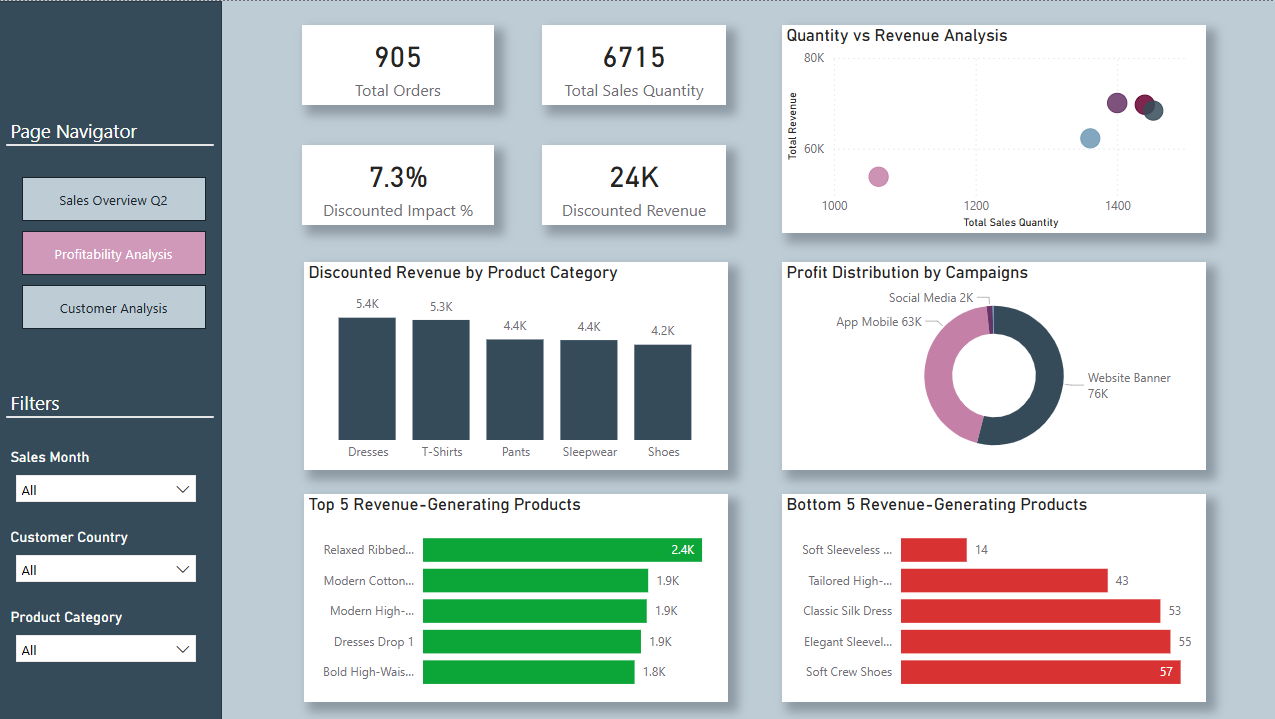

This screenshot's page, from the dashboard's own definition file:
{"tool":"powerbi","page":{"name":"Profitability Analysis","canvas":[1280,720],"ordinal":1},"visuals":[{"type":"shape","box":[0,0,224,720],"z":0,"group":"g2"},{"type":"scatterChart","title":"Quantity vs Revenue Analysis","fields":{"Series":["products.category"],"Size":["sales.Average Order Value"],"X":["sales.Total Sales Quantity"],"Y":["sales.Total Revenue"]},"box":[784,24,424,208],"z":0},{"type":"clusteredBarChart","title":"Top 5 Revenue-Generating Products","fields":{"Category":["products.product_name"],"Y":["sales.Total Revenue"]},"box":[306,493,424,208],"z":1000},{"type":"clusteredBarChart","title":"Bottom 5 Revenue-Generating Products","fields":{"Category":["products.product_name"],"Y":["sales.Total Revenue"]},"box":[784,493,424,208],"z":2000},{"type":"card","fields":{"Values":["sales.Total Orders"]},"box":[304,24,192,80],"z":3000},{"type":"card","fields":{"Values":["sales.Discounted Revenue"]},"box":[544,144,184,80],"z":4000},{"type":"card","fields":{"Values":["sales.Discounted Impact %"]},"box":[304,144,192,80],"z":5000},{"type":"clusteredColumnChart","title":"Discounted Revenue by Product Category","fields":{"Category":["products.category"],"Y":["sales.Discounted Revenue"]},"box":[306,261,424,208],"z":6000},{"type":"card","fields":{"Values":["sales.Total Sales Quantity"]},"box":[544,24,184,80],"z":7000},{"type":"donutChart","title":"Profit Distribution by Campaigns","fields":{"Category":["sales.channel_campaigns"],"Y":["sales.Total Profit"]},"box":[784,261,424,208],"z":8000},{"type":"slicer","title":"Sales Month","fields":{"Values":["Calendar.Calendar Hierarchy.Month"]},"box":[12.1,437.9,200,64],"z":9000,"group":"g1"},{"type":"group","id":"g1","title":"Group 3","box":[12.1,437.9,200,224],"z":9000},{"type":"slicer","title":"Sales Month","fields":{"Values":["Calendar.Calendar Hierarchy.Month"]},"box":[8,448,200,64],"z":9000,"group":"g3"},{"type":"group","id":"g2","title":"Group 2","box":[0,0,224,720],"z":10000},{"type":"slicer","title":"Customer Country ","fields":{"Values":["customers.country"]},"box":[12.1,517.9,200,64],"z":10000,"group":"g1"},{"type":"slicer","title":"Customer Country ","fields":{"Values":["customers.country"]},"box":[8,528,200,64],"z":10000,"group":"g3"},{"type":"slicer","title":"Product Category","fields":{"Values":["products.category"]},"box":[12.1,597.9,200,64],"z":11000,"group":"g1"},{"type":"slicer","title":"Product Category","fields":{"Values":["products.category"]},"box":[8,608,200,64],"z":11000,"group":"g3"},{"type":"group","id":"g3","title":"Group 3","box":[8,448,200,224],"z":11500},{"type":"pageNavigator","box":[24,176,184,152],"z":12000,"group":"g2"},{"type":"textbox","box":[8,112,200,40],"z":13000,"group":"g5"},{"type":"textbox","box":[8,384,200,40],"z":13000,"group":"g4"},{"type":"group","id":"g4","title":"Group 1","box":[8,384,208,48],"z":13000,"group":"g2"},{"type":"group","id":"g5","title":"Group 1","box":[8,112,208,48],"z":14000,"group":"g2"},{"type":"shape","box":[8,128,208,32],"z":14000,"group":"g5"},{"type":"shape","box":[8,400,208,32],"z":14000,"group":"g4"}]}

Visuals, with their boxes on the page's 1280x720 design canvas (x1, y1, x2, y2). These are canvas units, not pixel positions in the 1275x719 screenshot, which may show the page scaled, cropped or inside an application window:
shape: bbox(0, 0, 224, 720)
"Quantity vs Revenue Analysis" scatterChart: bbox(784, 24, 1208, 232)
"Top 5 Revenue-Generating Products" clusteredBarChart: bbox(306, 493, 730, 701)
"Bottom 5 Revenue-Generating Products" clusteredBarChart: bbox(784, 493, 1208, 701)
card - sales.Total Orders: bbox(304, 24, 496, 104)
card - sales.Discounted Revenue: bbox(544, 144, 728, 224)
card - sales.Discounted Impact %: bbox(304, 144, 496, 224)
"Discounted Revenue by Product Category" clusteredColumnChart: bbox(306, 261, 730, 469)
card - sales.Total Sales Quantity: bbox(544, 24, 728, 104)
"Profit Distribution by Campaigns" donutChart: bbox(784, 261, 1208, 469)
"Sales Month" slicer: bbox(12, 438, 212, 502)
"Group 3" group: bbox(12, 438, 212, 662)
"Sales Month" slicer: bbox(8, 448, 208, 512)
"Group 2" group: bbox(0, 0, 224, 720)
"Customer Country " slicer: bbox(12, 518, 212, 582)
"Customer Country " slicer: bbox(8, 528, 208, 592)
"Product Category" slicer: bbox(12, 598, 212, 662)
"Product Category" slicer: bbox(8, 608, 208, 672)
"Group 3" group: bbox(8, 448, 208, 672)
pageNavigator: bbox(24, 176, 208, 328)
textbox: bbox(8, 112, 208, 152)
textbox: bbox(8, 384, 208, 424)
"Group 1" group: bbox(8, 384, 216, 432)
"Group 1" group: bbox(8, 112, 216, 160)
shape: bbox(8, 128, 216, 160)
shape: bbox(8, 400, 216, 432)
